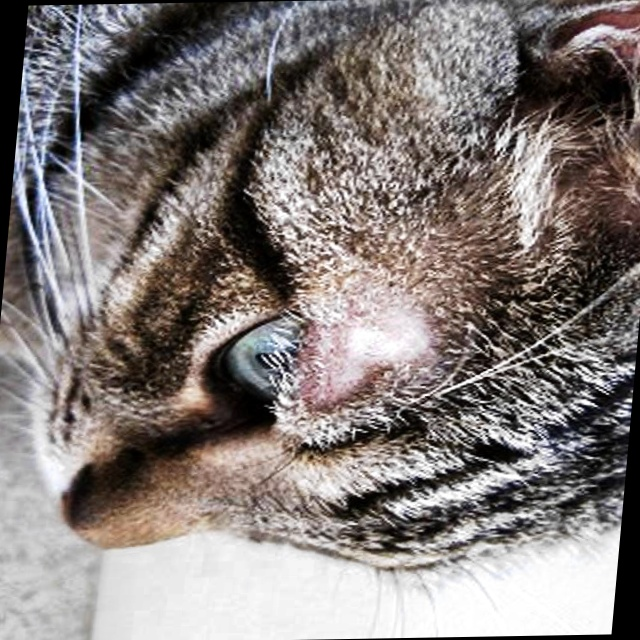hairloss: (327, 318, 441, 389)
